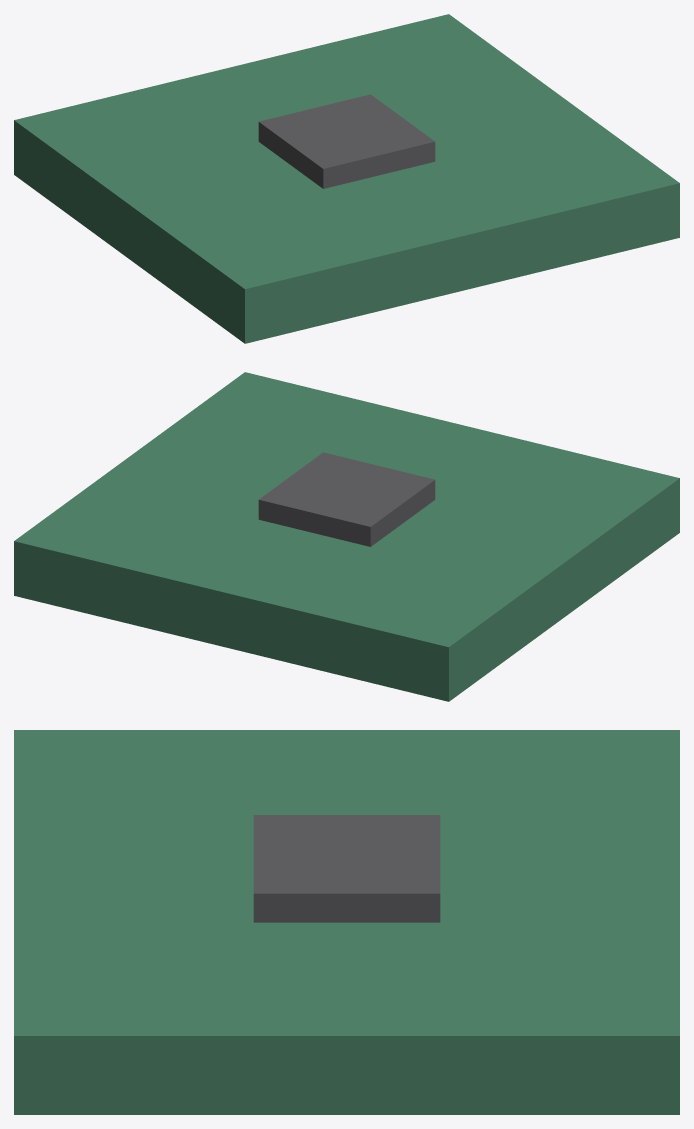
The model's file is sim800l.glb.
The picture shows the model from 3 angles, top to bottom: view 1: azimuth 30°, elevation 25°; view 2: azimuth 150°, elevation 25°; view 3: azimuth 270°, elevation 25°; orthographic projection. The views are drawn at different scales.
Parts seen in each view (by area): view 1: sim800l-pcb, sim800l-ic; view 2: sim800l-pcb, sim800l-ic; view 3: sim800l-pcb, sim800l-ic.
Boxes of the visible parts, x1=… form: sim800l-pcb: x1=14, y1=14, x2=679, y2=343; sim800l-ic: x1=258, y1=94, x2=435, y2=188; sim800l-pcb: x1=14, y1=372, x2=679, y2=701; sim800l-ic: x1=258, y1=452, x2=435, y2=546; sim800l-pcb: x1=14, y1=730, x2=679, y2=1114; sim800l-ic: x1=253, y1=815, x2=440, y2=922.
Size of the model in its own units: 0.025 by 0.0041 by 0.023.
